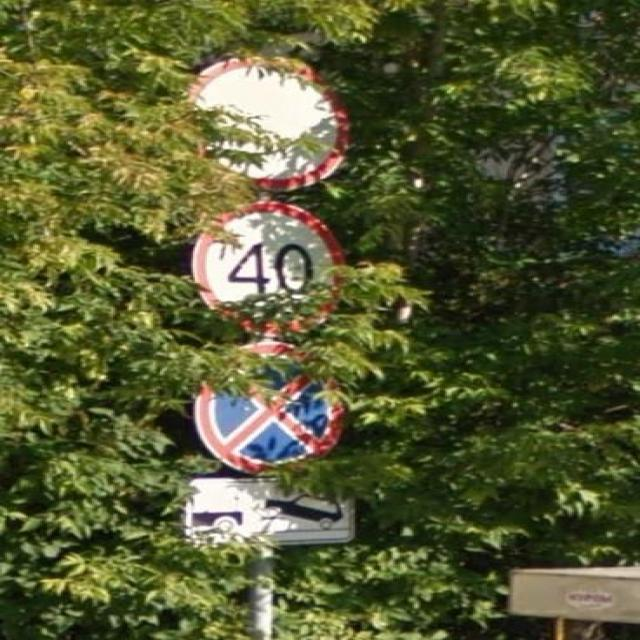Ograniczenie predkosci do 40: (190, 200, 350, 340)
